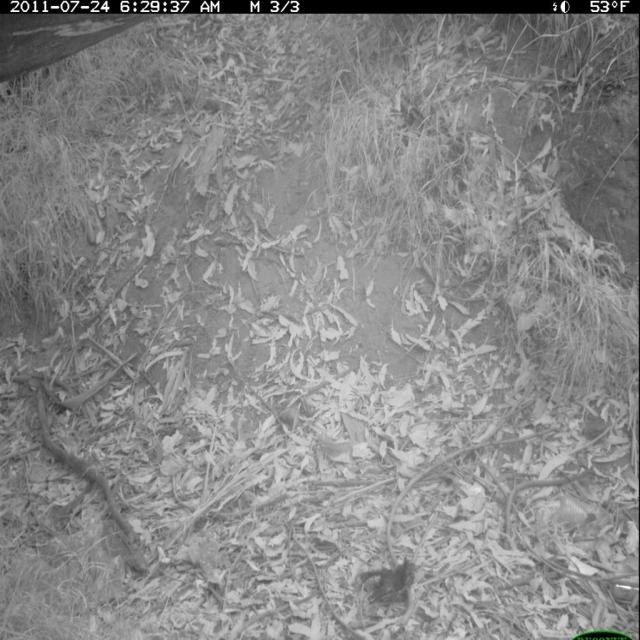dog: (349, 539, 438, 629)
